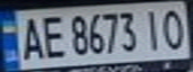3: (118, 8, 142, 53)
6: (84, 10, 106, 55)
7: (103, 9, 121, 55)
8: (66, 11, 90, 57)
A: (15, 14, 48, 62)
E: (36, 11, 69, 60)
I: (139, 7, 169, 52)
O: (157, 6, 190, 51)
